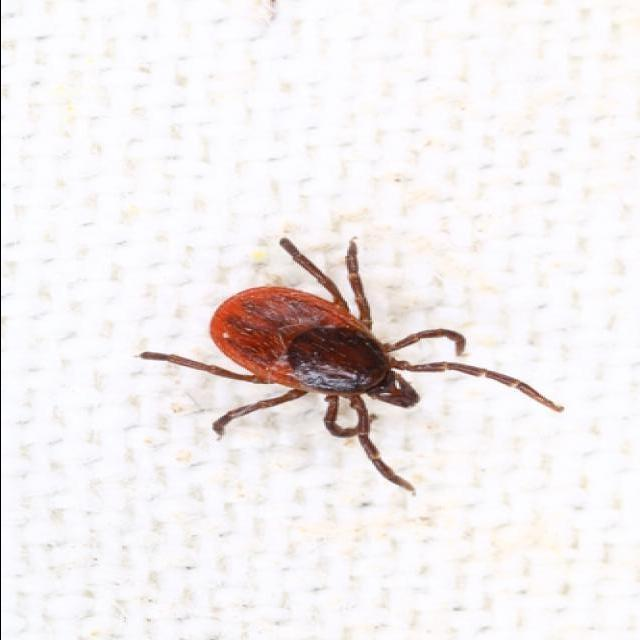Ixodes Ricinus-F: (140, 238, 554, 497)
